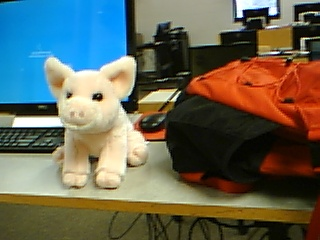piggy: (42, 55, 152, 191)
